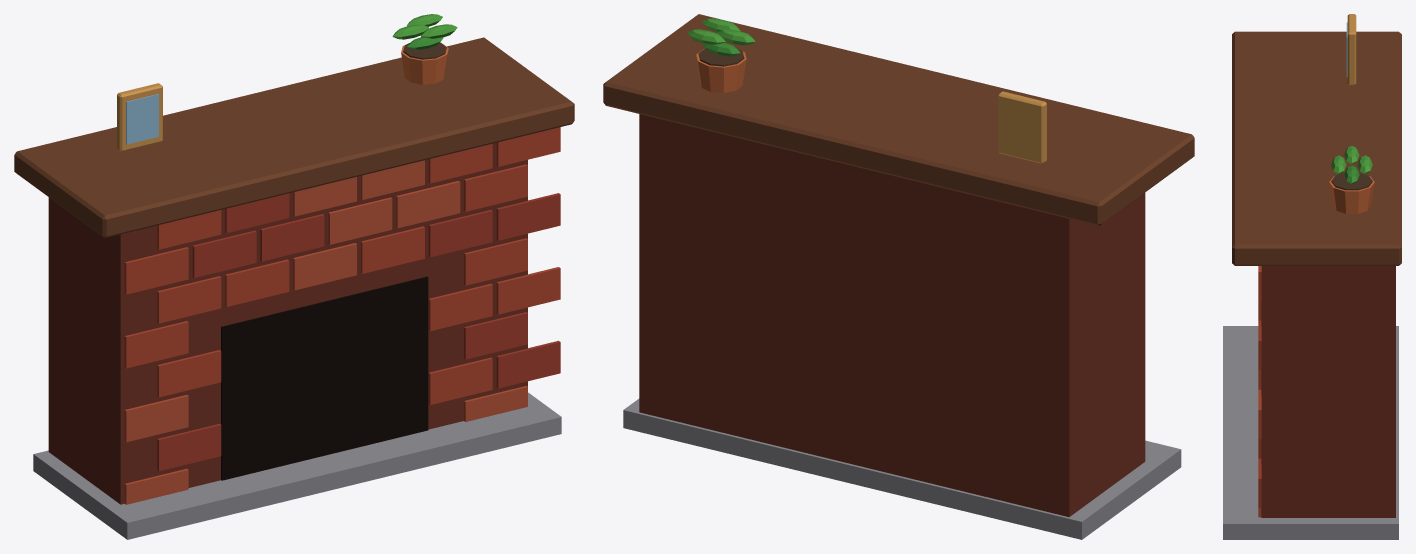
File: fireplace.glb
3 views of the same model, side by side, from view 1: azimuth 30°, elevation 25°; view 2: azimuth 150°, elevation 25°; view 3: azimuth 270°, elevation 25° (orthographic). The views are drawn at different scales.
Visible parts, largest first — view 1: fireplace; view 2: fireplace; view 3: fireplace.
Boxes of the visible parts, x1=… form: fireplace: x1=14, y1=14, x2=574, y2=539; fireplace: x1=603, y1=14, x2=1194, y2=539; fireplace: x1=1223, y1=14, x2=1401, y2=539.
Size of the model in its own units: 1.74 by 1.34 by 0.61.
